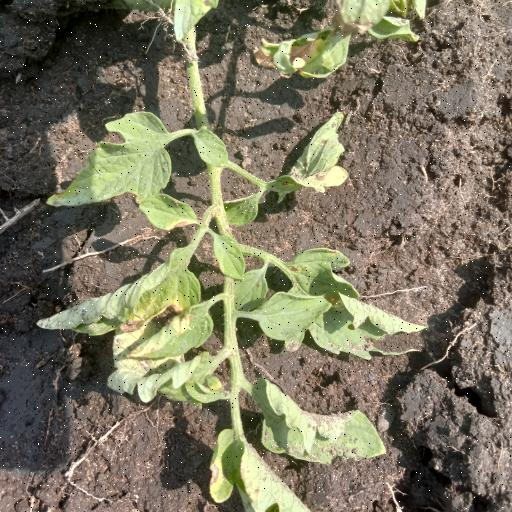Tomato_Brown_Spots: (254, 242, 434, 361), (37, 258, 207, 345), (46, 111, 184, 212)
